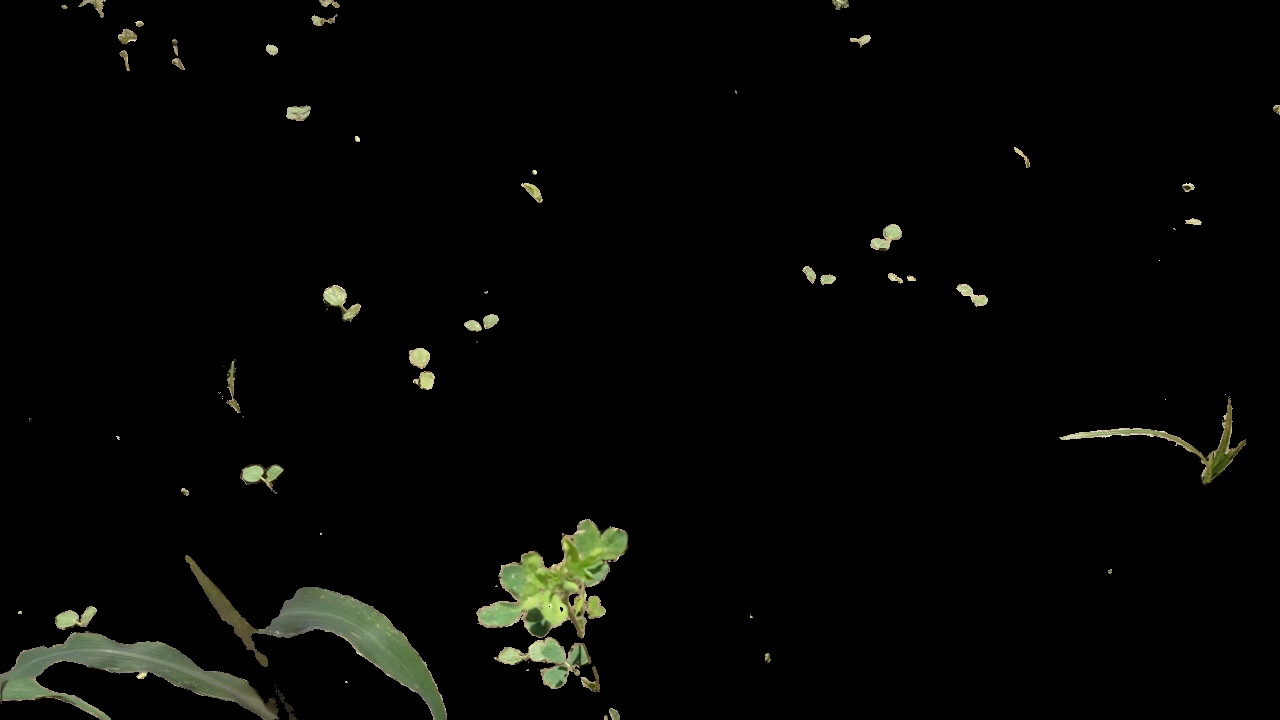crop: (173, 550, 454, 720), (1, 583, 283, 720)
weed: (453, 521, 641, 709), (1056, 373, 1245, 487), (203, 350, 255, 421), (324, 280, 374, 324), (401, 341, 437, 390), (235, 454, 286, 487), (51, 600, 105, 631), (951, 276, 995, 314), (864, 223, 909, 251), (282, 99, 322, 126), (804, 258, 840, 286), (462, 313, 508, 332)
